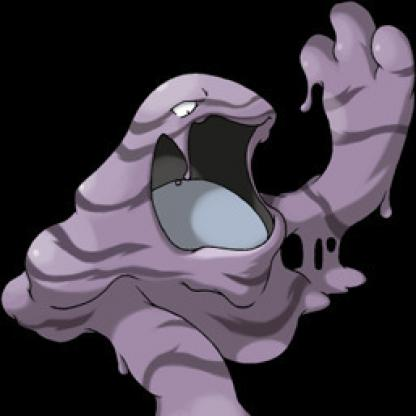Muk: (1, 1, 416, 416)
